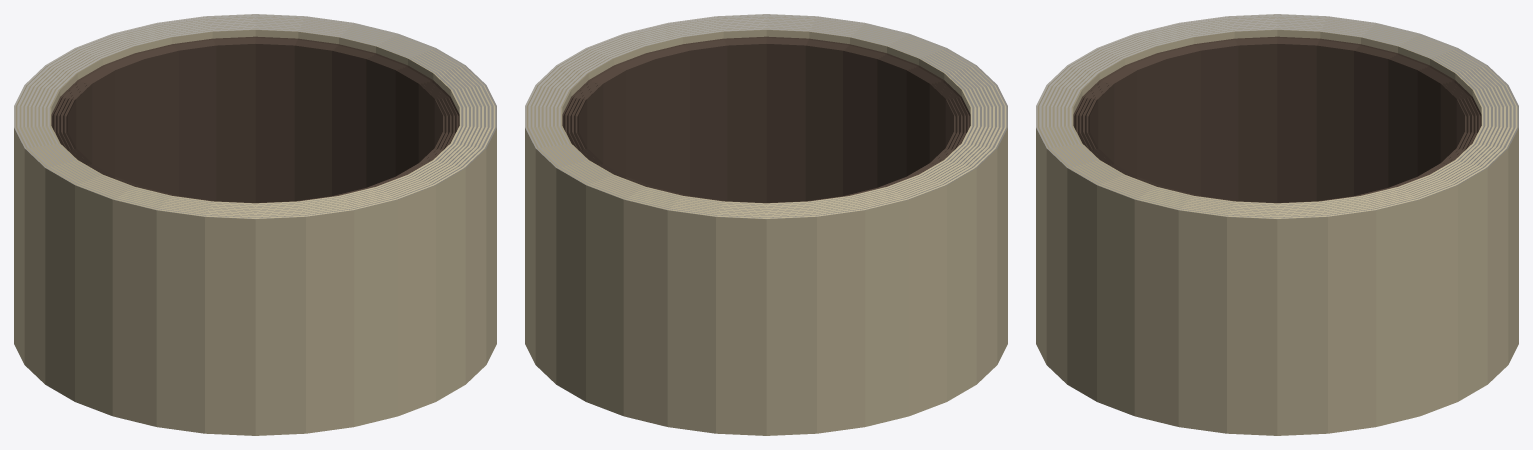
File: skotch.fbx
3 views of the same model, side by side, from view 1: azimuth 30°, elevation 25°; view 2: azimuth 150°, elevation 25°; view 3: azimuth 270°, elevation 25° (orthographic).
Parts seen in each view (by area): view 1: polySurface3; view 2: polySurface3; view 3: polySurface3.
Boxes of the visible parts, x1=… form: polySurface3: x1=14, y1=14, x2=496, y2=435; polySurface3: x1=525, y1=14, x2=1007, y2=435; polySurface3: x1=1036, y1=14, x2=1518, y2=435.
Bounding box in the file's own units: 6.43 × 3.17 × 6.39.
